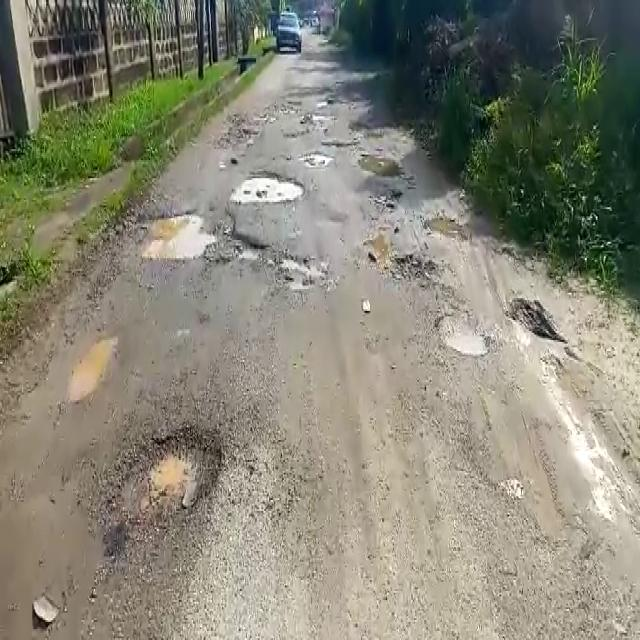Pothole: (113, 425, 224, 536), (232, 232, 331, 290), (141, 208, 221, 264), (436, 309, 494, 356), (229, 169, 308, 203), (300, 150, 334, 165)
